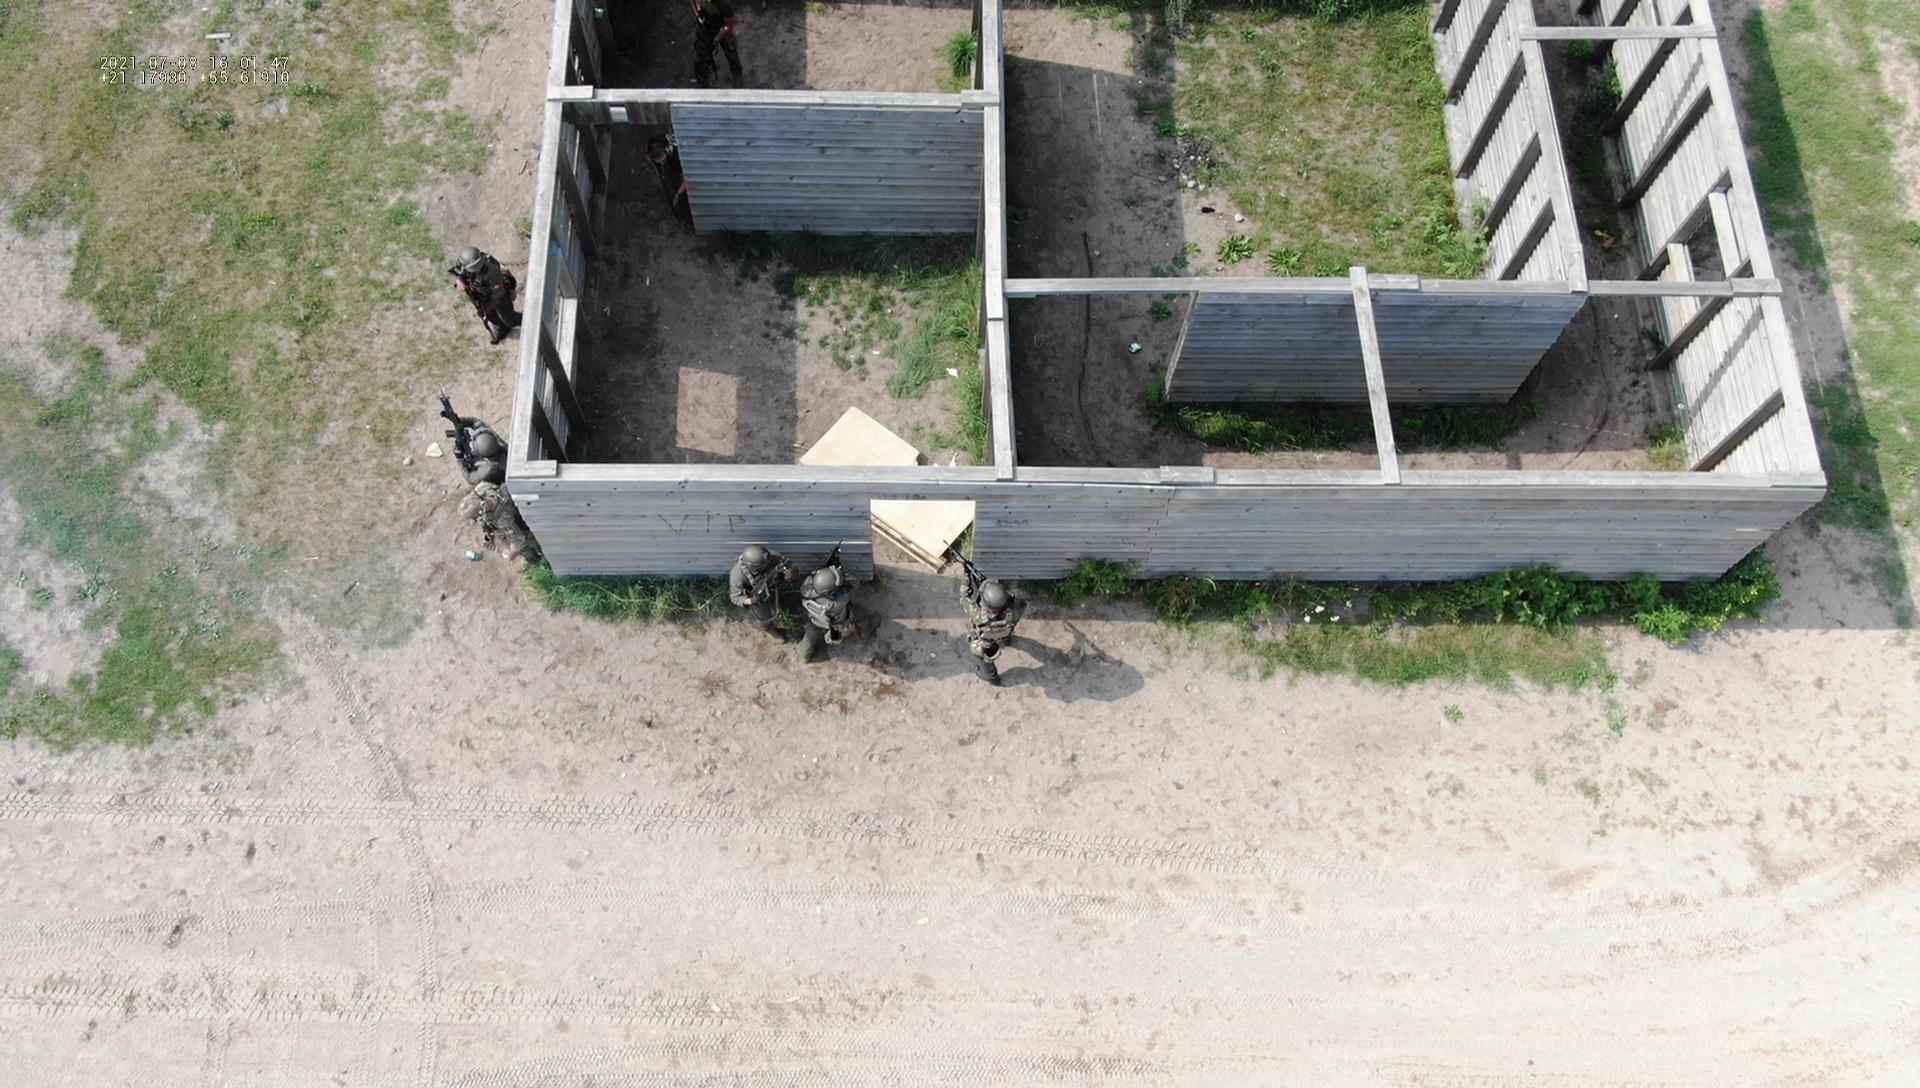Soldier: (957, 526, 1062, 686), (468, 437, 564, 575), (804, 518, 895, 657), (732, 522, 829, 648), (448, 220, 527, 361), (636, 119, 692, 214), (447, 398, 487, 454)
